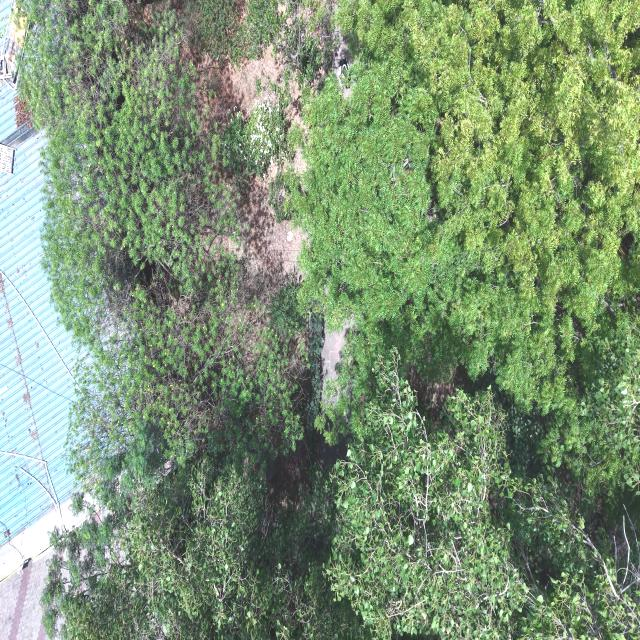DRY_AREA: (0, 498, 86, 639), (179, 32, 301, 131), (212, 177, 303, 292), (221, 165, 303, 281), (193, 46, 302, 129), (193, 46, 282, 127), (237, 178, 302, 279), (0, 558, 47, 639), (321, 327, 345, 401)
ROOFTOP_BUILDING: (0, 81, 81, 543)
VEGETATION_TREE: (19, 0, 639, 639), (290, 1, 639, 490), (43, 354, 639, 639), (20, 0, 302, 505), (291, 1, 639, 408), (327, 354, 639, 639), (20, 1, 232, 343), (42, 456, 367, 639), (67, 260, 302, 506), (180, 0, 279, 63), (220, 91, 289, 176)
